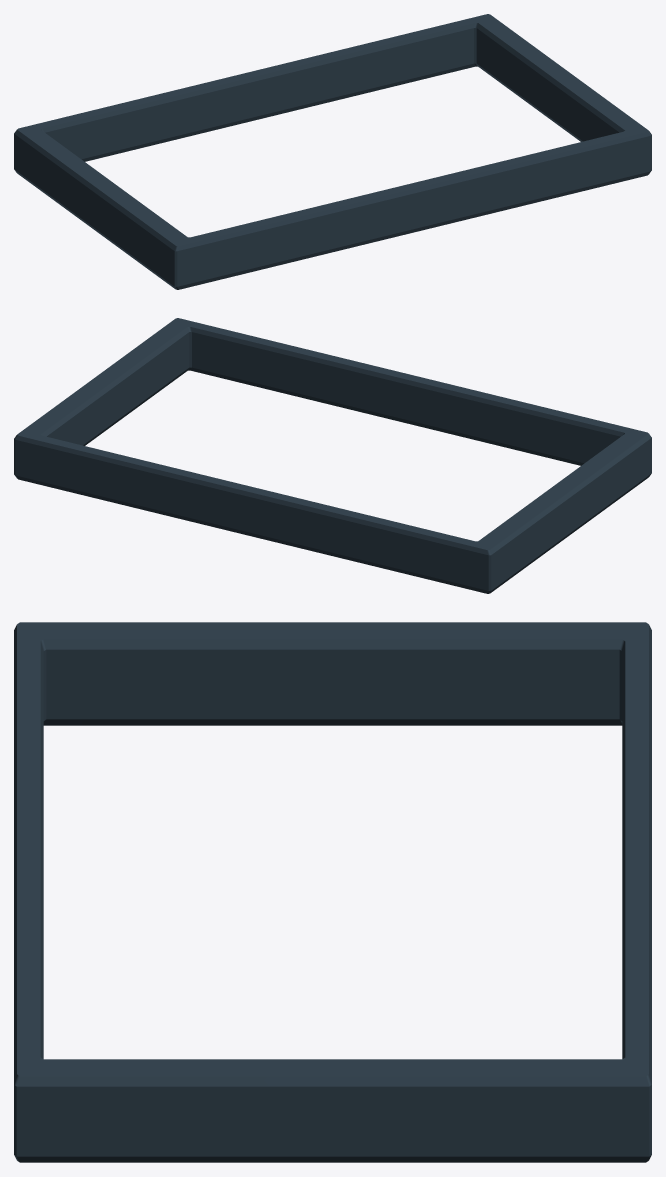
File: SM_SubwayF.fbx
The picture shows the model from 3 angles, top to bottom: view 1: azimuth 30°, elevation 25°; view 2: azimuth 150°, elevation 25°; view 3: azimuth 270°, elevation 25°; orthographic projection. The views are drawn at different scales.
Parts seen in each view (by area): view 1: pasted__polySurface4817; view 2: pasted__polySurface4817; view 3: pasted__polySurface4817.
Part boxes in pixels (<box>): pasted__polySurface4817: <box>14,14,651,289</box>; pasted__polySurface4817: <box>14,318,651,593</box>; pasted__polySurface4817: <box>14,622,651,1162</box>.
Size of the model in its own units: 810 by 71.04 by 476.
